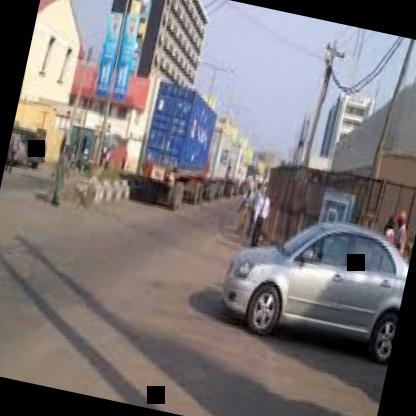car: (178, 188, 416, 376)
